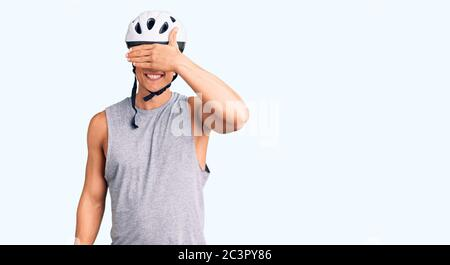helmet: (126, 10, 185, 93)
